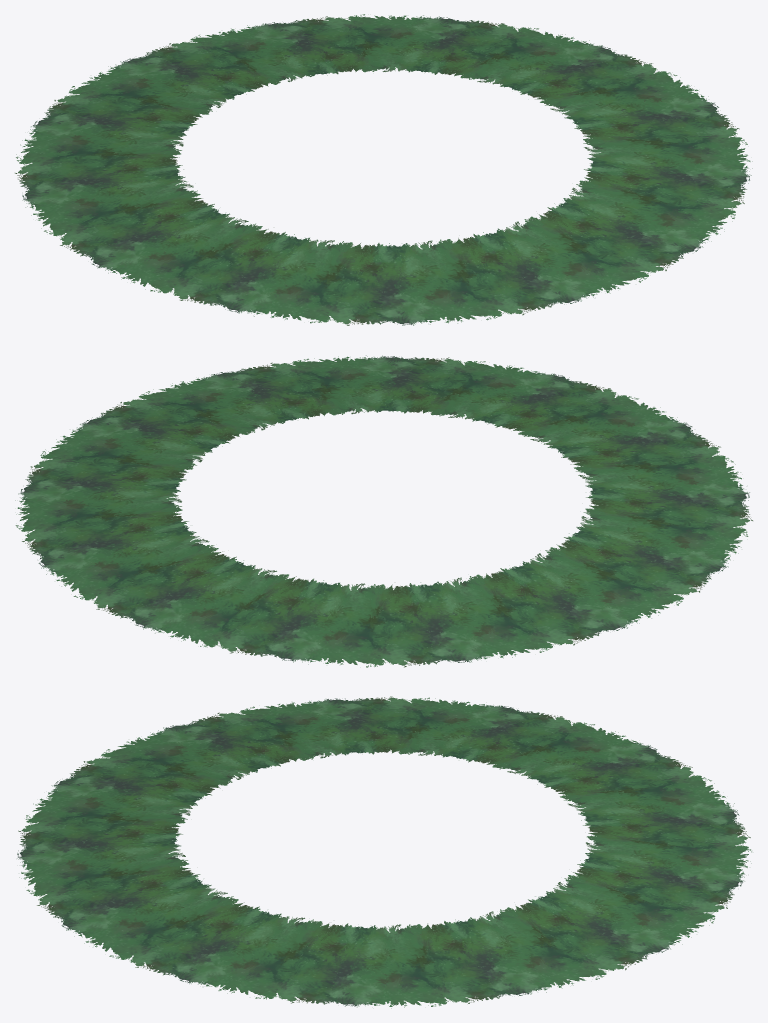
File: grass_mesh_01.fbx
3 renders of one model, top to bottom at view 1: azimuth 30°, elevation 25°; view 2: azimuth 150°, elevation 25°; view 3: azimuth 270°, elevation 25°, orthographic.
Parts seen in each view (by area): view 1: grass_mesh_01; view 2: grass_mesh_01; view 3: grass_mesh_01.
Boxes of the visible parts, bbox=[...] form: grass_mesh_01: bbox=[15, 14, 752, 325]; grass_mesh_01: bbox=[15, 355, 752, 667]; grass_mesh_01: bbox=[17, 696, 751, 1008].
Size of the model in its own units: 50.73 by 0.9973 by 50.73.
